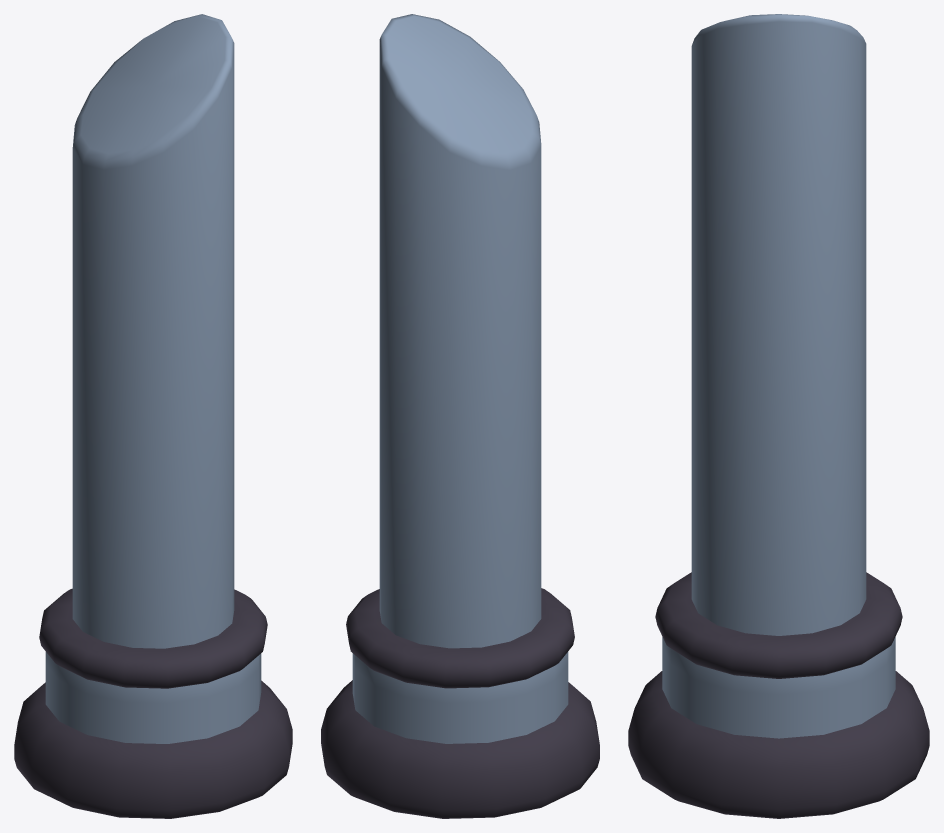
File: ruins-column-3.fbx
3 renders of one model, left to right at view 1: azimuth 30°, elevation 25°; view 2: azimuth 150°, elevation 25°; view 3: azimuth 270°, elevation 25°, orthographic. The views are drawn at different scales.
Visible parts, largest first — view 1: Cylinder, Cylinder.002, Cylinder.003, Cylinder.001; view 2: Cylinder, Cylinder.002, Cylinder.003, Cylinder.001; view 3: Cylinder, Cylinder.002, Cylinder.003, Cylinder.001.
Boxes of the visible parts, x1,y1,x2,y2 form: Cylinder: [72, 14, 234, 648]; Cylinder.002: [14, 680, 292, 818]; Cylinder.003: [45, 652, 261, 743]; Cylinder.001: [39, 588, 267, 688]; Cylinder: [379, 14, 541, 648]; Cylinder.002: [321, 680, 599, 818]; Cylinder.003: [352, 651, 568, 743]; Cylinder.001: [346, 588, 574, 688]; Cylinder: [691, 14, 866, 635]; Cylinder.002: [628, 671, 929, 818]; Cylinder.003: [662, 637, 895, 738]; Cylinder.001: [655, 572, 902, 678].
Size of the model in its own units: 103 by 295 by 103.
